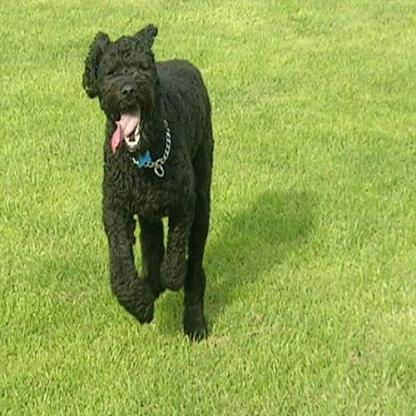Bouvier_des_Flandres: (80, 21, 214, 345)
